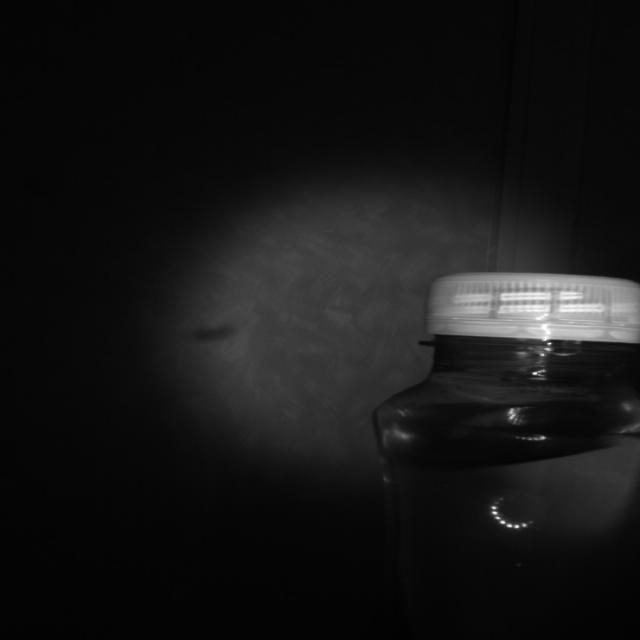Good: (420, 271, 640, 345)
